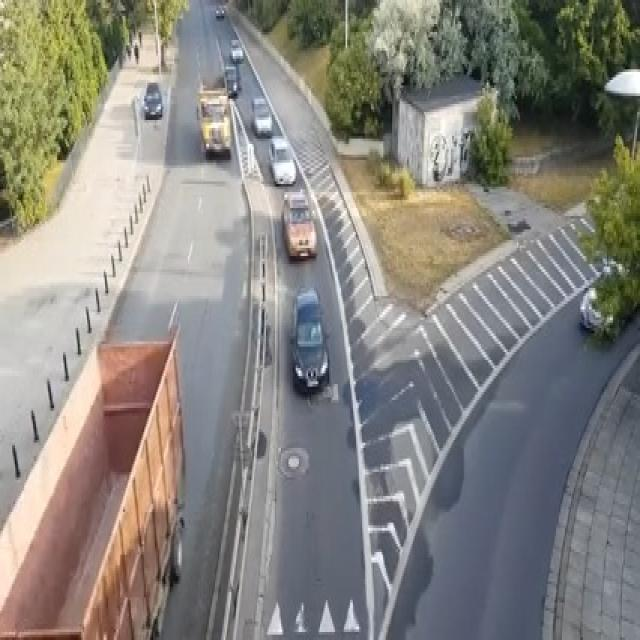car: (288, 288, 329, 392), (578, 256, 626, 333), (281, 189, 317, 259), (578, 283, 613, 333), (267, 136, 296, 184), (251, 96, 272, 136), (143, 80, 162, 117), (224, 64, 239, 96), (228, 38, 244, 62), (215, 2, 224, 18)
